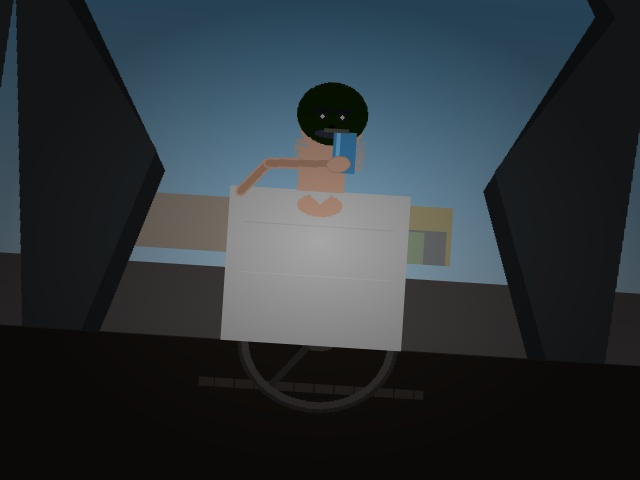drinking: (308, 118, 359, 181)
